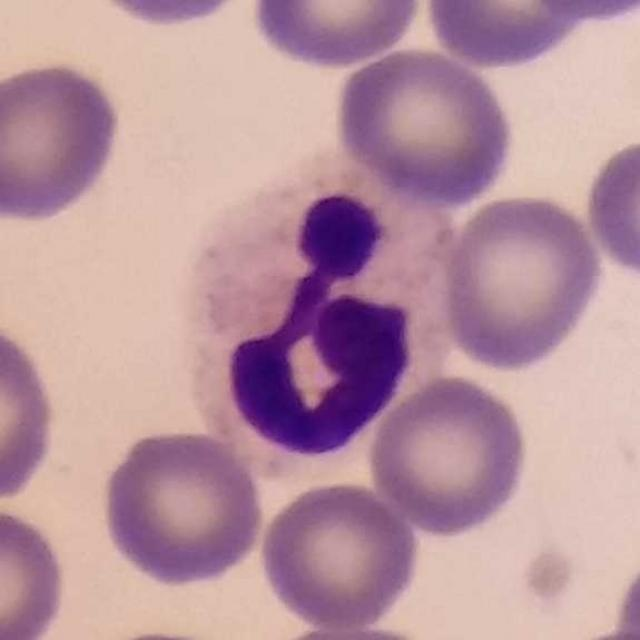Neutrophil: (170, 167, 468, 467)
Platelets: (524, 541, 584, 608)
RBC: (435, 189, 608, 373), (332, 42, 518, 210), (96, 425, 268, 589), (364, 372, 533, 538), (256, 476, 422, 631), (0, 56, 128, 226), (247, 0, 428, 71), (418, 0, 598, 71), (0, 313, 62, 506), (0, 502, 70, 640), (581, 130, 640, 287), (80, 0, 261, 30), (520, 0, 639, 26), (602, 566, 640, 640)
